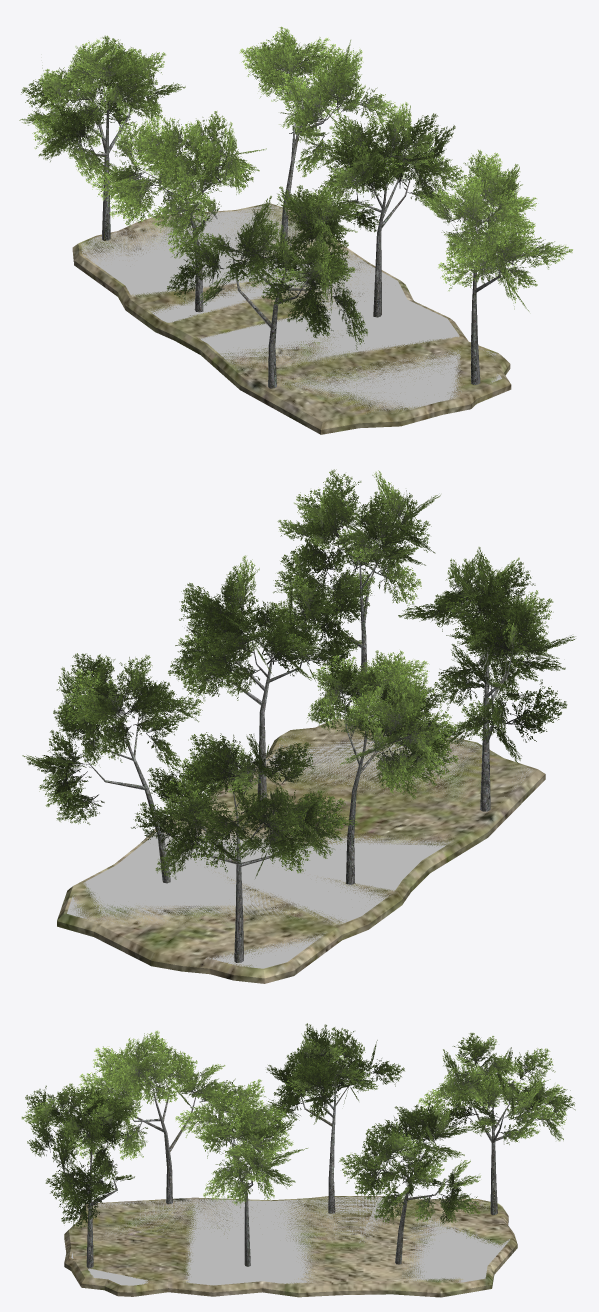
The model's file is cf_ta_forest2.obj.
The picture shows the model from 3 angles, top to bottom: view 1: azimuth 30°, elevation 25°; view 2: azimuth 150°, elevation 25°; view 3: azimuth 270°, elevation 25°; orthographic projection. The views are drawn at different scales.
Visible parts, largest first — view 1: forest_Plane.001, t3.002, t2.002, t1, t6, t5, t4; view 2: forest_Plane.001, t1, t3.002, t5, t6, t2.002, t4; view 3: forest_Plane.001, t1, t4, t3.002, t6, t5, t2.002.
Part boxes in pixels (x1,y1,x2,y2): forest_Plane.001: (72, 203, 511, 434); t3.002: (167, 185, 367, 388); t2.002: (92, 111, 266, 312); t1: (19, 35, 185, 240); t6: (419, 150, 572, 384); t5: (306, 102, 467, 317); t4: (239, 26, 401, 248); forest_Plane.001: (57, 719, 545, 983); t1: (131, 732, 359, 962); t3.002: (398, 547, 575, 811); t5: (168, 555, 361, 805); t6: (273, 469, 440, 729); t2.002: (307, 650, 458, 884); t4: (22, 653, 203, 883); forest_Plane.001: (64, 1196, 517, 1297); t1: (418, 1033, 575, 1215); t4: (338, 1099, 480, 1264); t3.002: (74, 1030, 263, 1204); t6: (21, 1083, 134, 1268); t5: (175, 1079, 307, 1266); t2.002: (265, 1023, 404, 1213).
Bounding box in the file's own units: 14.8 × 9.58 × 25.04.
Materials: 1 (1 with a texture image).
